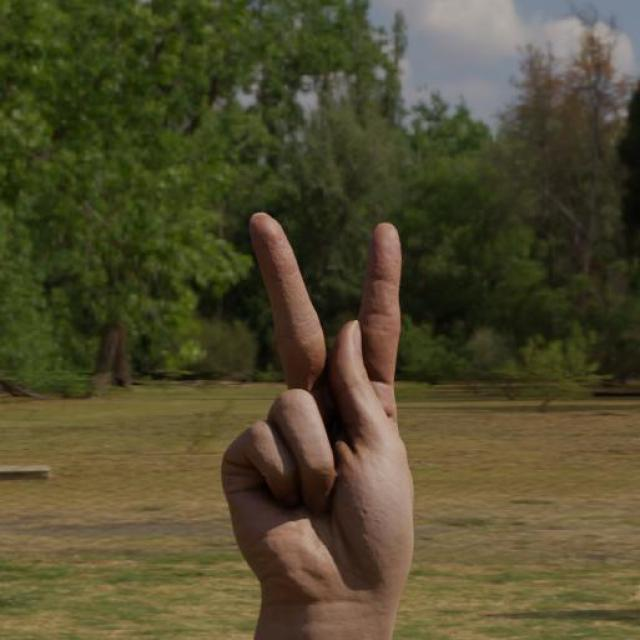K: (218, 207, 418, 621)
